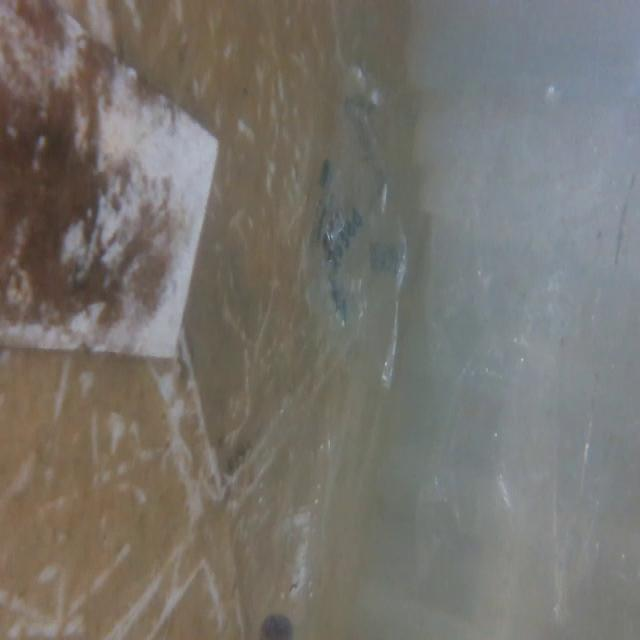metal: (0, 0, 221, 389)
plastic bags: (429, 40, 639, 640), (296, 74, 415, 394)
plastic bottle: (232, 404, 342, 640)
